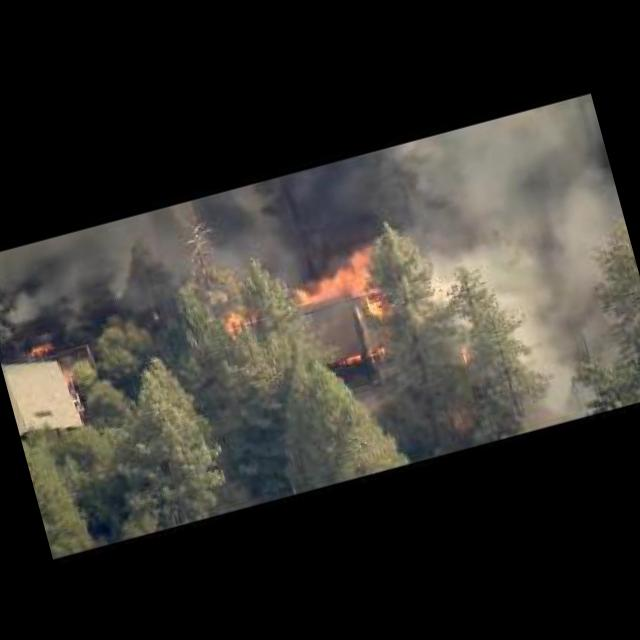fire: (269, 234, 420, 384), (222, 306, 248, 341)
